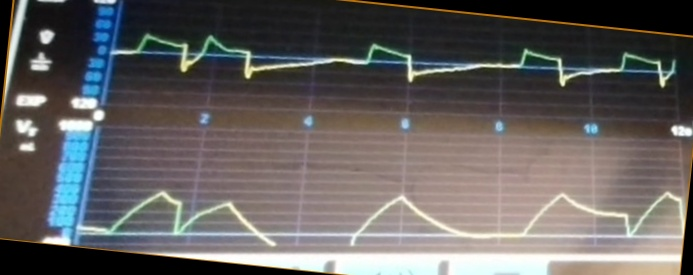Double_Triggering Flow: (118, 32, 675, 107)
Double_Triggering Volume: (87, 181, 681, 248)
